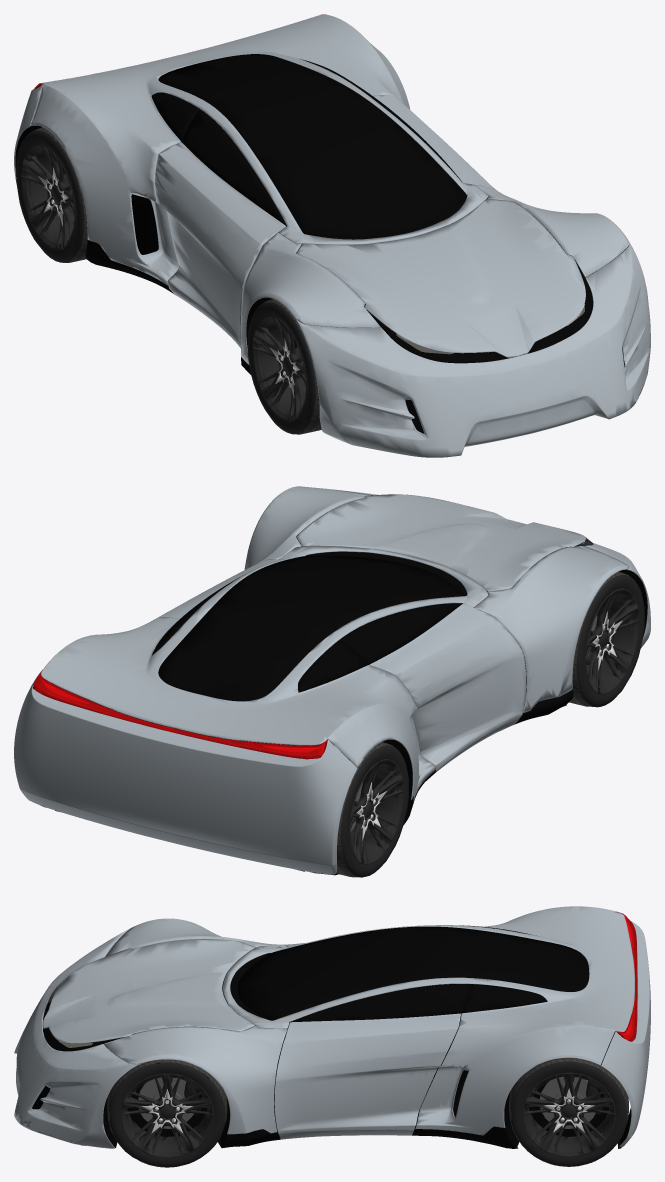
File: concept-025.glb
3 renders of one model, top to bottom at view 1: azimuth 30°, elevation 25°; view 2: azimuth 150°, elevation 25°; view 3: azimuth 270°, elevation 25°, orthographic. The views are drawn at different scales.
Visible parts, largest first — view 1: Cube.046_body_color_supra.002_0, Cube.042_plasticShiny.001_0, rim_235_rims_0, tire_v001_Coll|Mesh5.004|Dupli|_rubber___tires.001_0, Cube.038_blockers_0, Cube.044_headlightCovers.001_0, tire_v001_Coll|Mesh5.004|Dupli|_tireProtector_0, Cube.051_plasticBlur_0, rim_235_chrome.001_0; view 2: Cube.046_body_color_supra.002_0, Cube.042_plasticShiny.001_0, rim_235_rims_0, tire_v001_Coll|Mesh5.004|Dupli|_rubber___tires.001_0, Cube.038_blockers_0, Cube.045_taillight_cover_0, tire_v001_Coll|Mesh5.004|Dupli|_tireProtector_0, Cube.051_plasticBlur_0, rim_235_chrome.001_0; view 3: Cube.046_body_color_supra.002_0, Cube.042_plasticShiny.001_0, rim_235_rims_0, tire_v001_Coll|Mesh5.004|Dupli|_rubber___tires.001_0, Cube.038_blockers_0, tire_v001_Coll|Mesh5.004|Dupli|_tireProtector_0, Cube.051_plasticBlur_0, brakes_Coll|Mesh7.004|Dupli|1_metal_1.001_0, rim_235_chrome.001_0, Cube.045_taillight_cover_0, Cube.044_headlightCovers.001_0, brakes_Coll|Mesh6.004|Dupli|_brakeCalipers_0.
Boxes of the visible parts, <box> form: Cube.046_body_color_supra.002_0: <box>14,14,650,457</box>; Cube.042_plasticShiny.001_0: <box>151,54,465,237</box>; rim_235_rims_0: <box>21,144,307,421</box>; tire_v001_Coll|Mesh5.004|Dupli|_rubber___tires.001_0: <box>16,130,315,434</box>; Cube.038_blockers_0: <box>15,79,628,433</box>; Cube.044_headlightCovers.001_0: <box>366,259,593,363</box>; tire_v001_Coll|Mesh5.004|Dupli|_tireProtector_0: <box>29,127,321,434</box>; Cube.051_plasticBlur_0: <box>85,240,250,374</box>; rim_235_chrome.001_0: <box>38,167,299,397</box>; Cube.046_body_color_supra.002_0: <box>14,486,650,874</box>; Cube.042_plasticShiny.001_0: <box>151,556,465,701</box>; rim_235_rims_0: <box>349,588,639,864</box>; tire_v001_Coll|Mesh5.004|Dupli|_rubber___tires.001_0: <box>341,575,644,877</box>; Cube.038_blockers_0: <box>33,497,647,875</box>; Cube.045_taillight_cover_0: <box>33,671,327,759</box>; tire_v001_Coll|Mesh5.004|Dupli|_tireProtector_0: <box>336,571,637,877</box>; Cube.051_plasticBlur_0: <box>403,689,573,825</box>; rim_235_chrome.001_0: <box>357,611,622,840</box>; Cube.046_body_color_supra.002_0: <box>14,906,650,1148</box>; Cube.042_plasticShiny.001_0: <box>237,925,588,1022</box>; rim_235_rims_0: <box>120,1072,615,1157</box>; tire_v001_Coll|Mesh5.004|Dupli|_rubber___tires.001_0: <box>109,1061,627,1167</box>; Cube.038_blockers_0: <box>32,921,636,1148</box>; tire_v001_Coll|Mesh5.004|Dupli|_tireProtector_0: <box>107,1058,628,1167</box>; Cube.051_plasticBlur_0: <box>220,1126,518,1148</box>; brakes_Coll|Mesh7.004|Dupli|1_metal_1.001_0: <box>138,1077,595,1128</box>; rim_235_chrome.001_0: <box>142,1088,594,1133</box>; Cube.045_taillight_cover_0: <box>616,912,637,1041</box>; Cube.044_headlightCovers.001_0: <box>43,954,124,1051</box>; brakes_Coll|Mesh6.004|Dupli|_brakeCalipers_0: <box>184,1081,603,1114</box>.
Size of the model in its own units: 2.07 by 1.04 by 3.98.
Materials: 14 (1 with a texture image).
